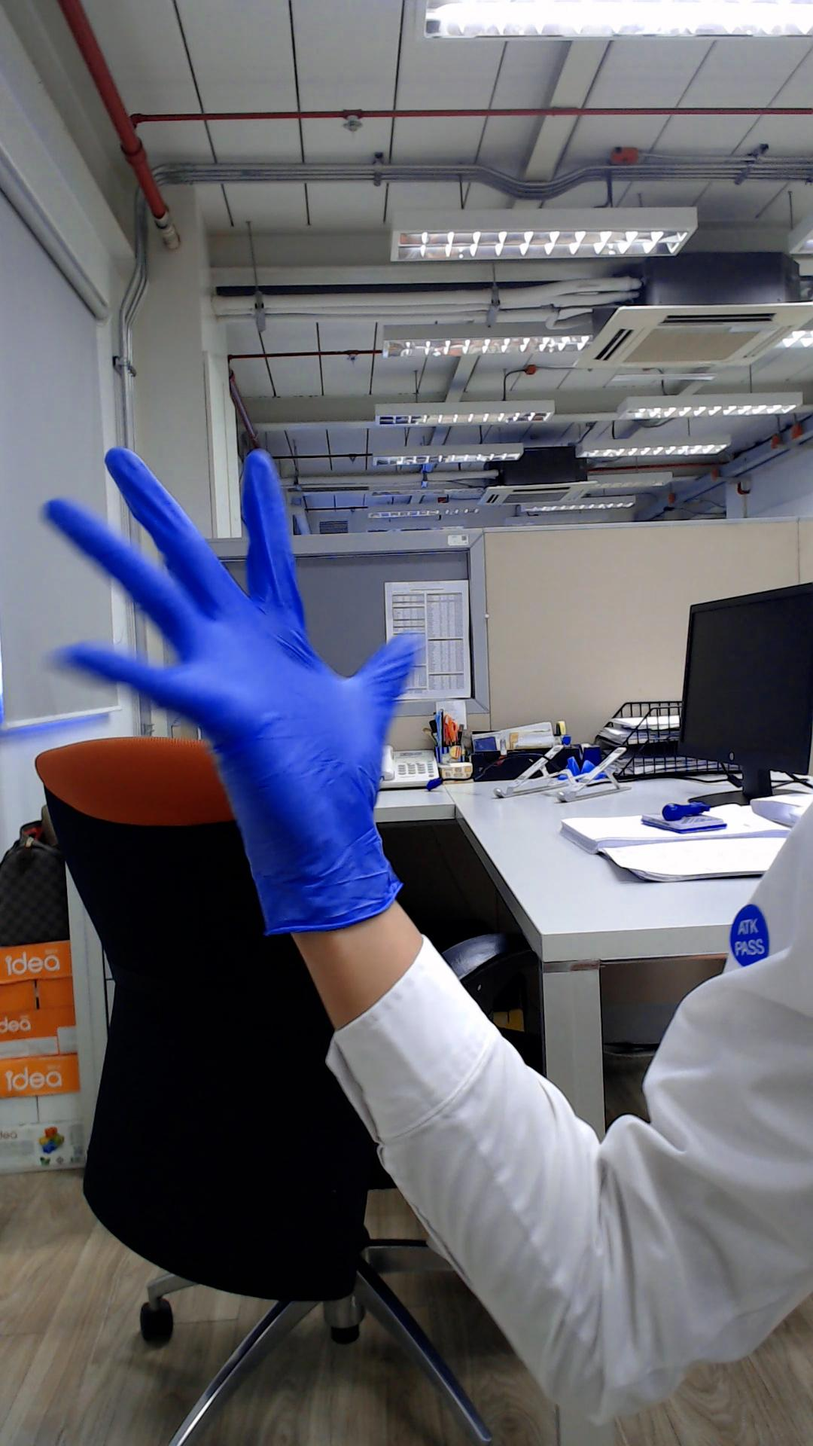gloves: (51, 402, 448, 822)
